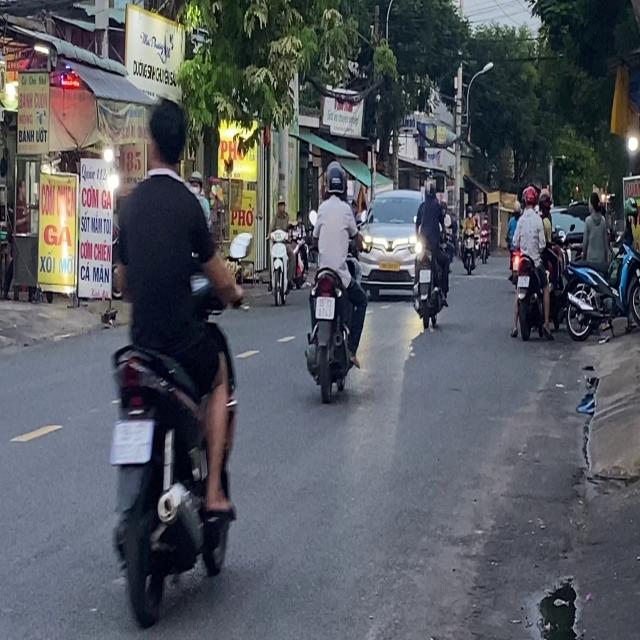helmet: (324, 160, 345, 199), (522, 184, 537, 208)
licenseplate: (104, 96, 244, 628), (304, 159, 368, 401), (508, 183, 551, 341), (266, 195, 294, 305)
motorcyclist: (144, 99, 189, 174), (276, 195, 286, 214)
nohelmet: (110, 419, 152, 463), (315, 296, 334, 318), (517, 275, 529, 287)
